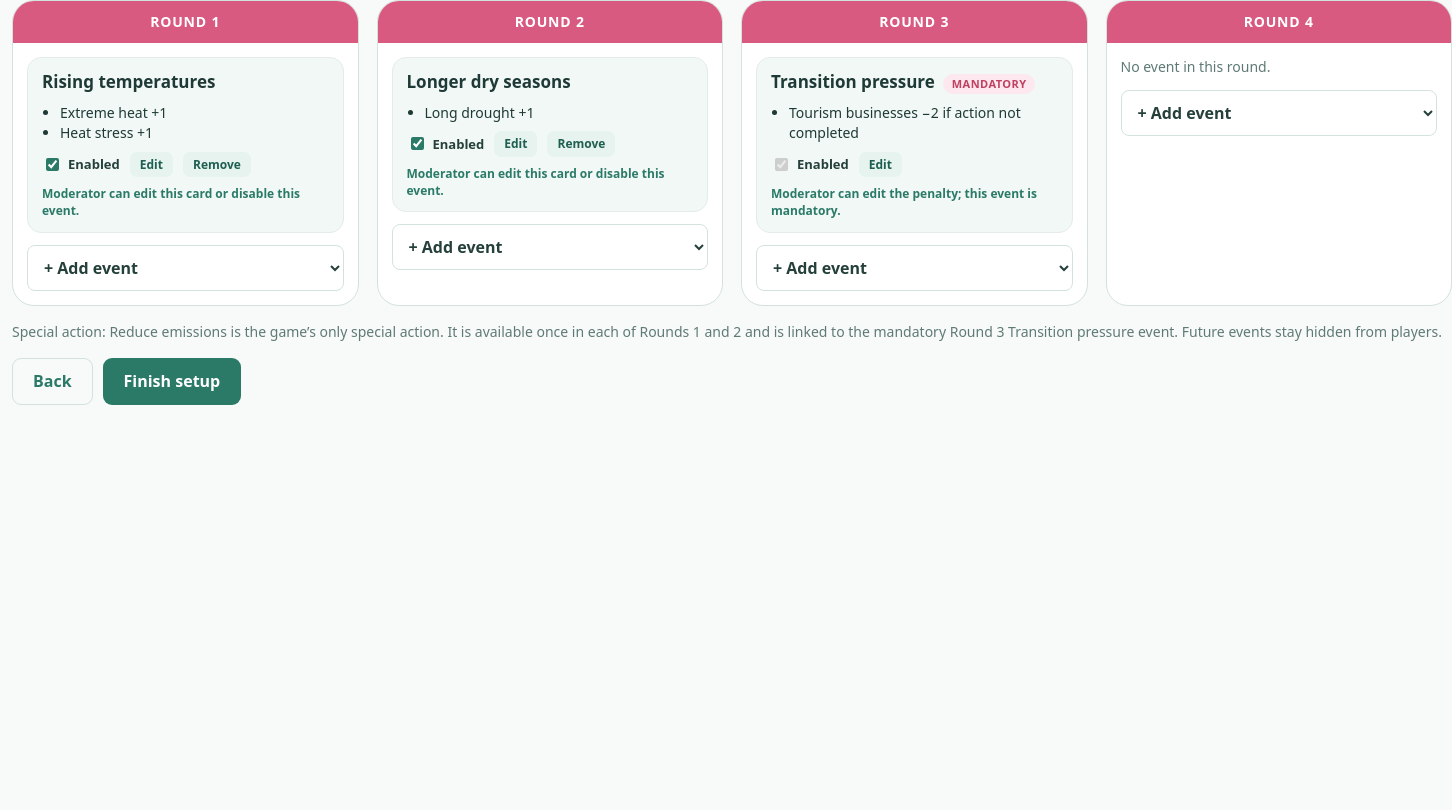
Scenario: EventsStep › allows at most two events in a round
Select "Growing pressure on water supplies" in the dropdown named "Add an event to Round 1" below "Heat stress +1" at (185, 268), box [27,245,344,291]
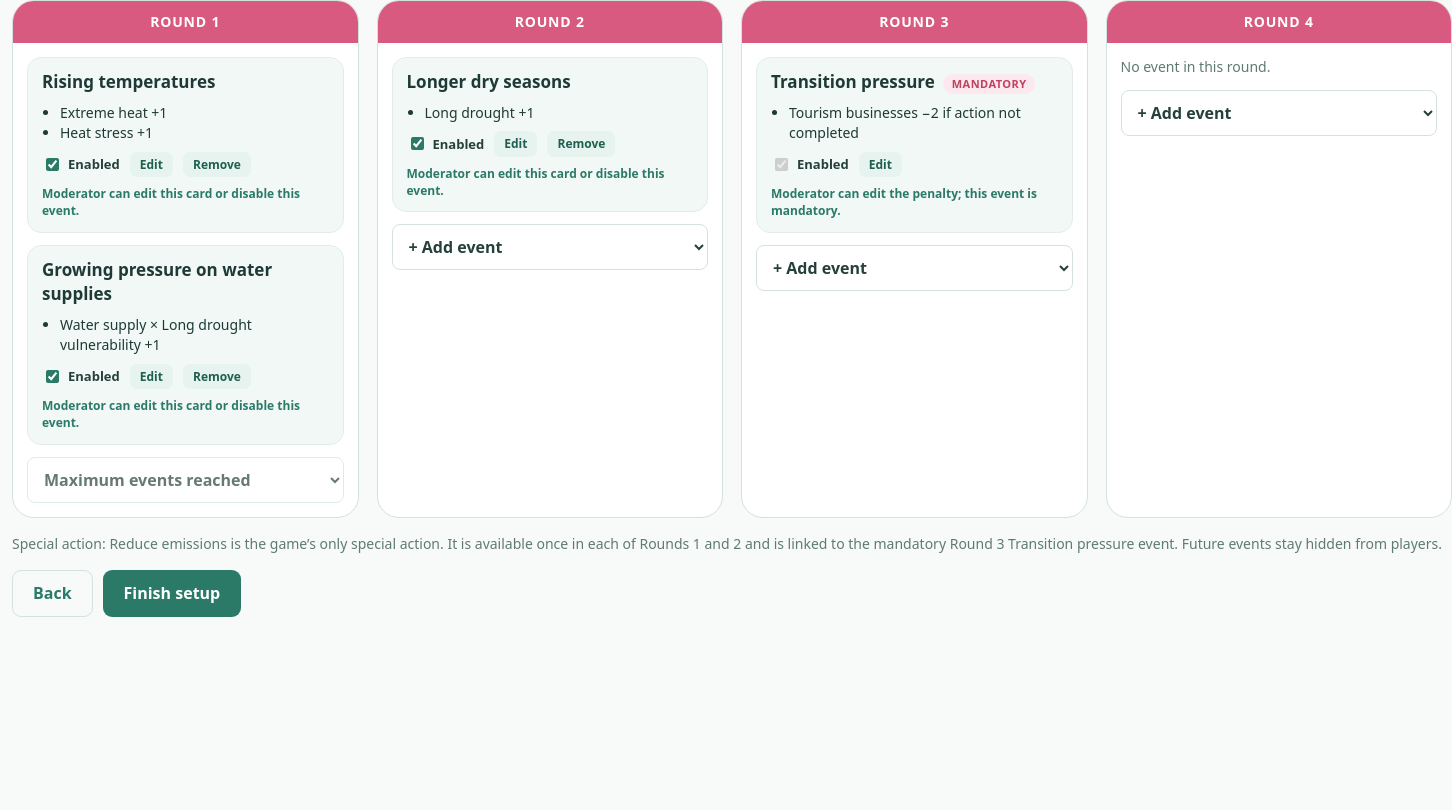
Expected: the dropdown named "Add an event to Round 1" below "Growing pressure on water supplies" is disabled, [27,457,344,503]
